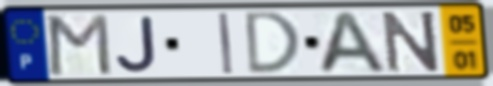A: (314, 9, 391, 76)
D: (243, 9, 304, 77)
I: (215, 11, 236, 76)
J: (113, 14, 160, 75)
M: (46, 12, 115, 78)
N: (379, 8, 443, 75)
